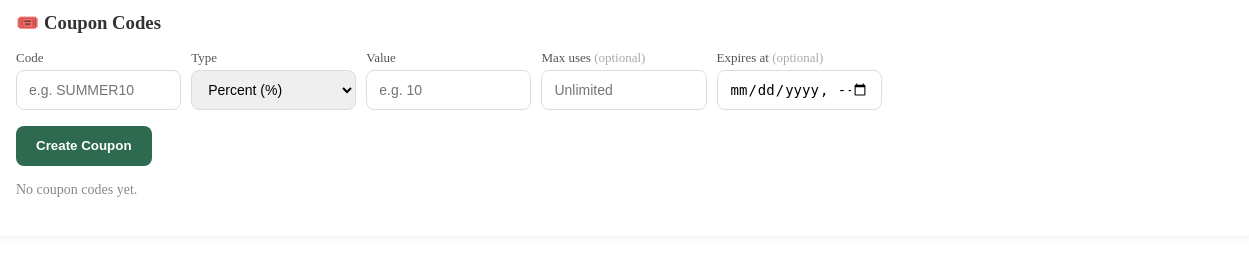
Test: CouponManager — create coupon › shows an error alert when api.createCoupon rejects
The image size is (1249, 262).
Step 1. Type "SAVE20" into the field labelled "Code" → (99, 90), box [16,70,181,110]
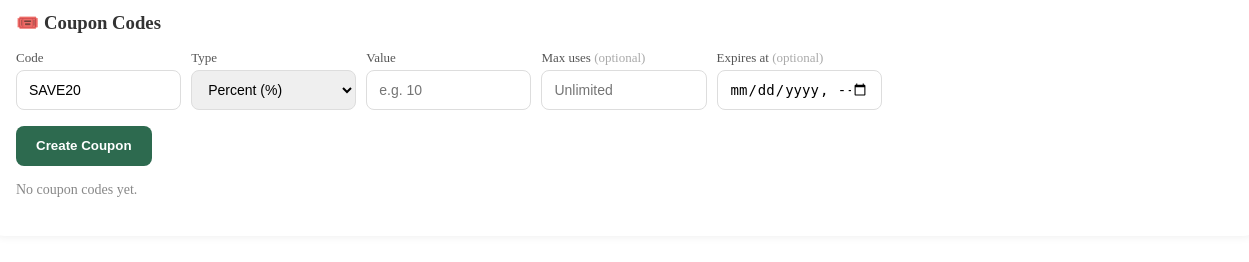
Step 2. Type "20" into the number field labelled "Value" → (449, 90), box [366,70,531,110]
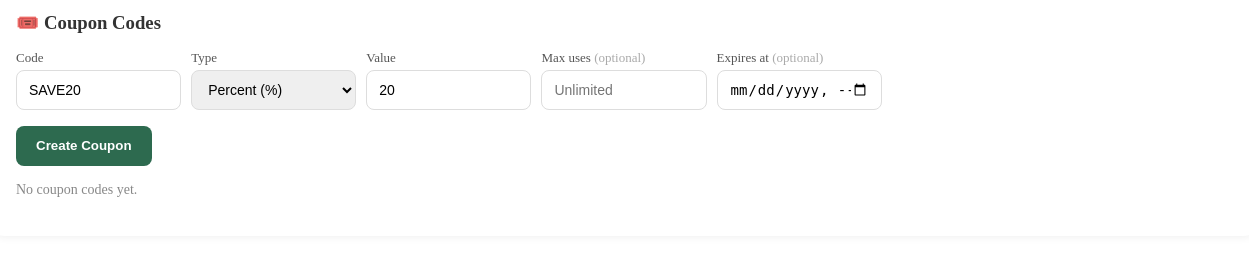
Step 3. Submit the form "Create Coupon", box [16,50,882,166]
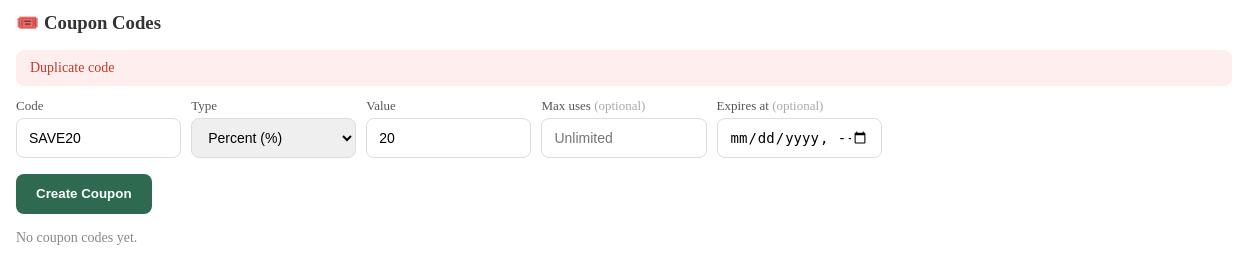
Now the message reads "Duplicate code", box [30,60,114,75]
